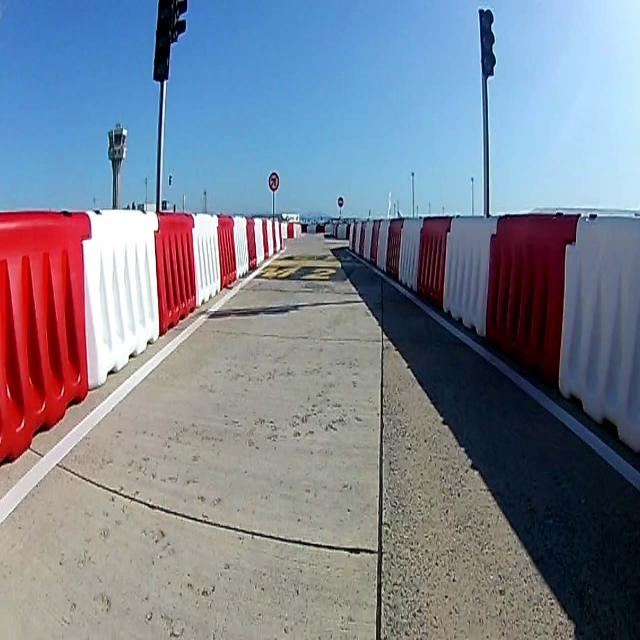soladonulmez: (268, 173, 280, 191)
